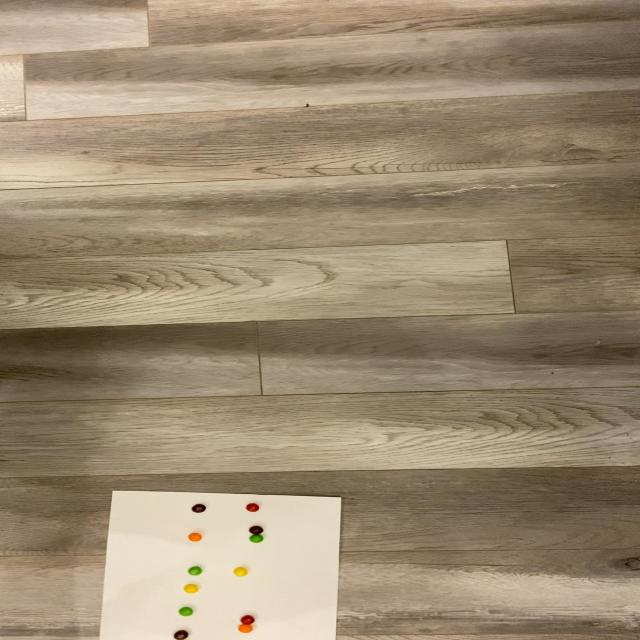smartie: (183, 584, 199, 594), (249, 525, 264, 535), (188, 532, 203, 542), (173, 630, 188, 640), (240, 615, 256, 624), (245, 503, 259, 513), (248, 534, 263, 543), (233, 568, 248, 577), (178, 607, 193, 616), (237, 625, 252, 634), (192, 504, 206, 513), (188, 566, 202, 575)
